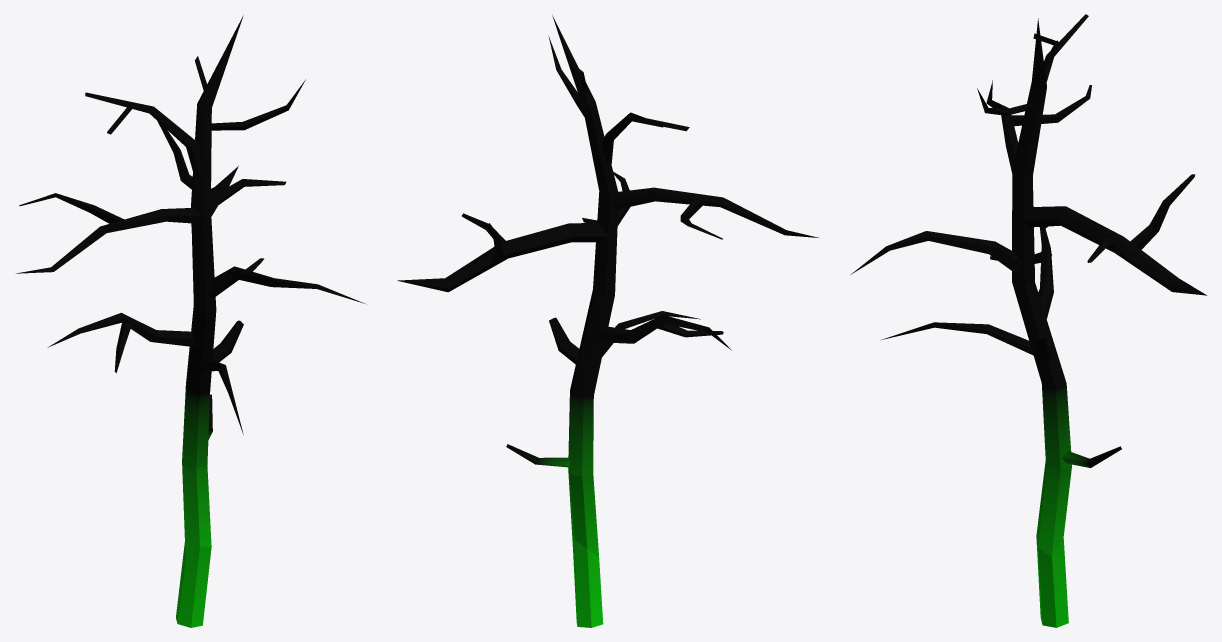
The model's file is SM_Collision_ChinaPina01.fbx.
3 renders of one model, left to right at view 1: azimuth 30°, elevation 25°; view 2: azimuth 150°, elevation 25°; view 3: azimuth 270°, elevation 25°, orthographic. The views are drawn at different scales.
Visible parts, largest first — view 1: SM_Collision_ChinaPina01; view 2: SM_Collision_ChinaPina01; view 3: SM_Collision_ChinaPina01.
Part boxes in pixels (x1,y1,x2,y2): SM_Collision_ChinaPina01: [16, 15, 365, 627]; SM_Collision_ChinaPina01: [397, 15, 818, 627]; SM_Collision_ChinaPina01: [850, 14, 1206, 627].
Size of the model in its own units: 793 by 1394 by 722.
